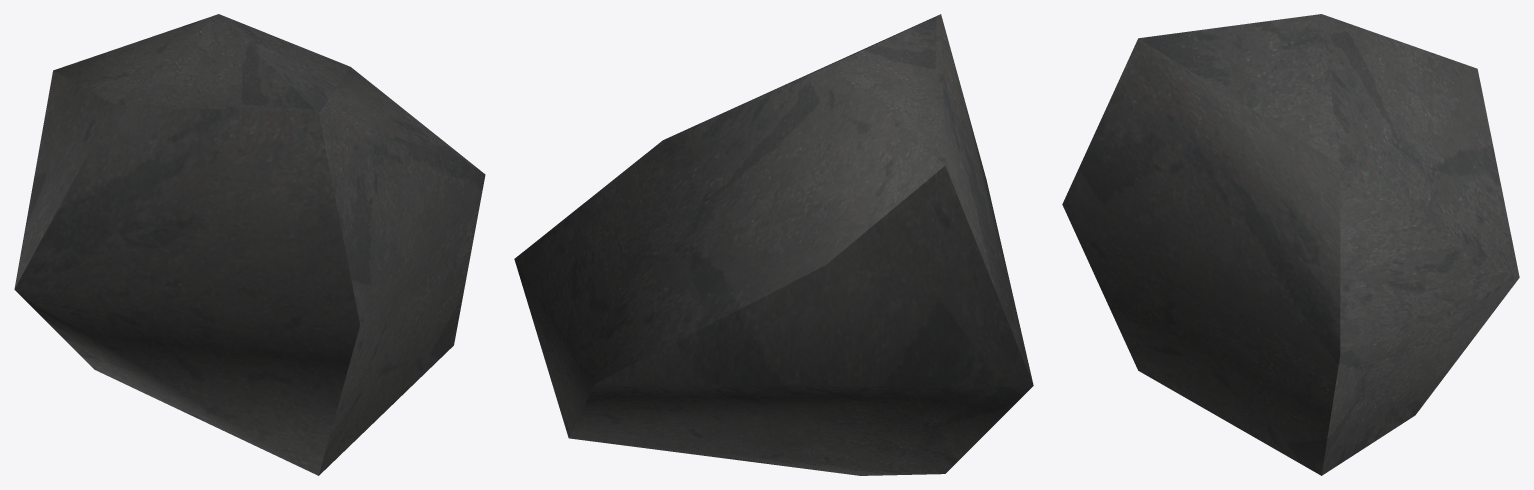
The model's file is misc_rock_tiny_2.dae.
3 views of the same model, side by side, from view 1: azimuth 30°, elevation 25°; view 2: azimuth 150°, elevation 25°; view 3: azimuth 270°, elevation 25° (orthographic). The views are drawn at different scales.
Visible parts, largest first — view 1: rock_tiny2; view 2: rock_tiny2; view 3: rock_tiny2.
Boxes of the visible parts, <box> form: rock_tiny2: <box>14,14,485,475</box>; rock_tiny2: <box>514,14,1033,475</box>; rock_tiny2: <box>1062,14,1519,475</box>.
Size of what is drawn, in the model's own units: 0.2708 by 0.2154 by 0.2482.
